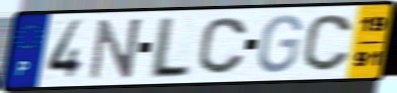4: (42, 17, 86, 84)
C: (195, 15, 250, 76), (300, 12, 355, 73)
G: (256, 14, 305, 75)
L: (145, 14, 195, 81)
N: (87, 16, 145, 82)
